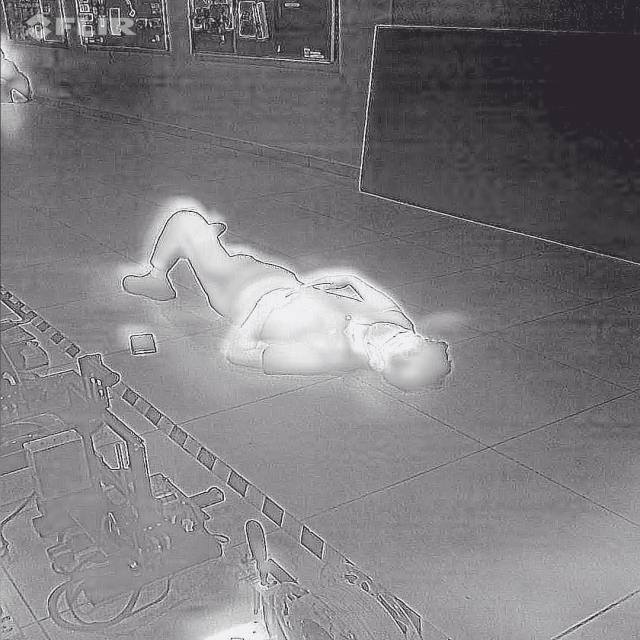Victim: (108, 192, 458, 405), (0, 38, 34, 104)
